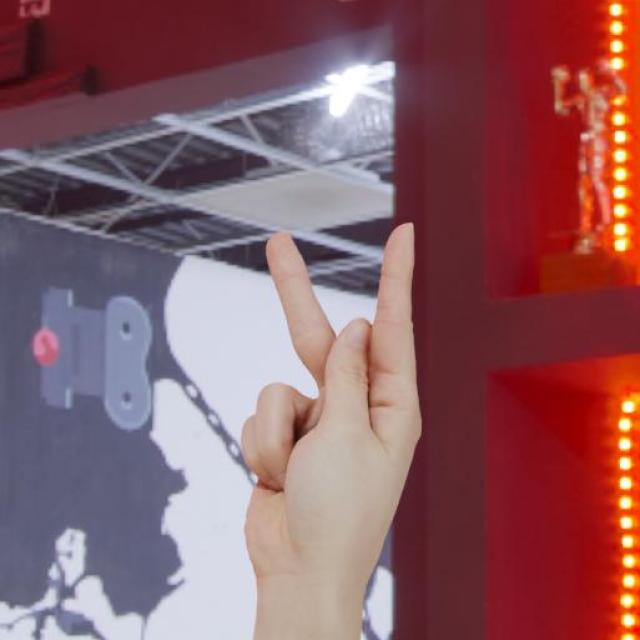K: (238, 216, 426, 580)
